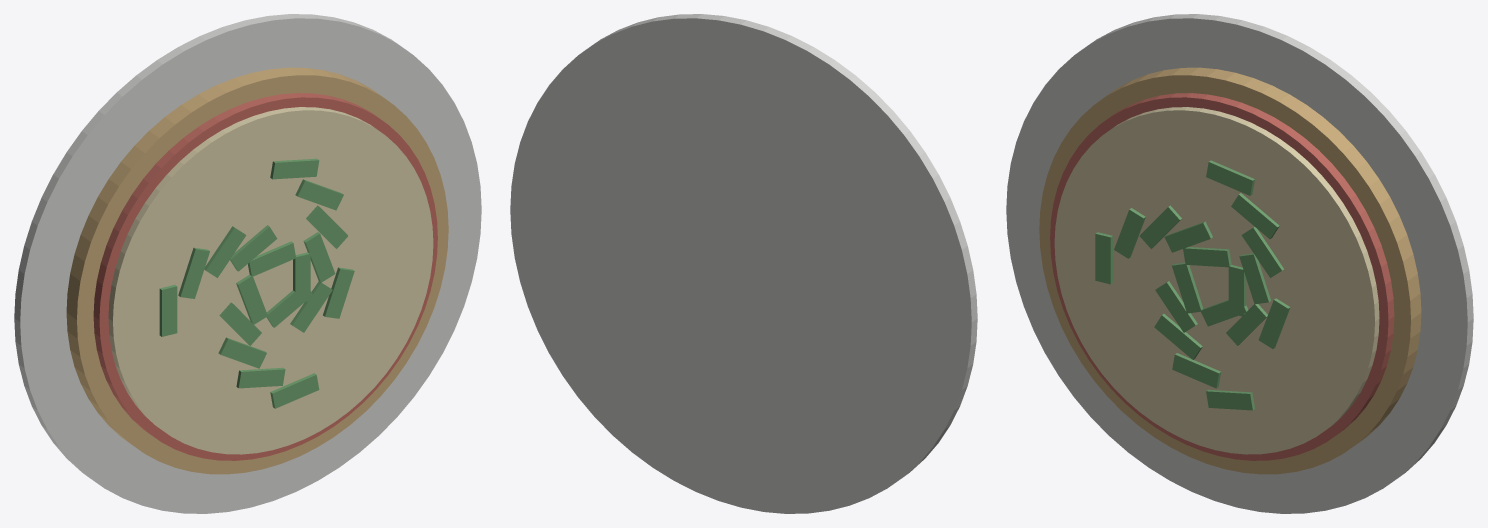
The model's file is pizza-rucula.glb.
3 renders of one model, left to right at view 1: azimuth 30°, elevation 25°; view 2: azimuth 150°, elevation 25°; view 3: azimuth 330°, elevation 25°, orthographic.
Parts seen in each view (by area): view 1: world; view 2: world; view 3: world.
Boxes of the visible parts, x1,y1,x2,y2 form: world: (14, 14, 481, 513); world: (510, 14, 977, 513); world: (1006, 14, 1473, 513).
Bounding box in the file's own units: 0.36 × 0.36 × 0.0435.
